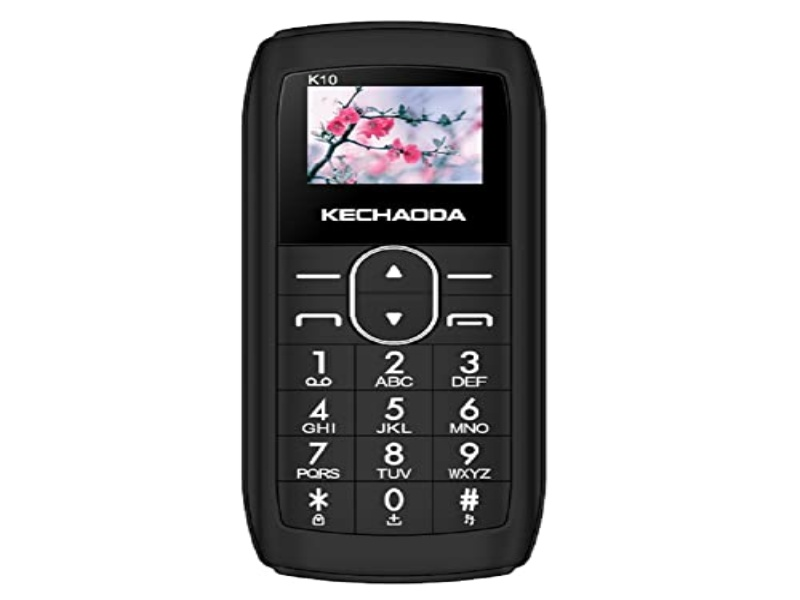mobile: (232, 20, 554, 589)
